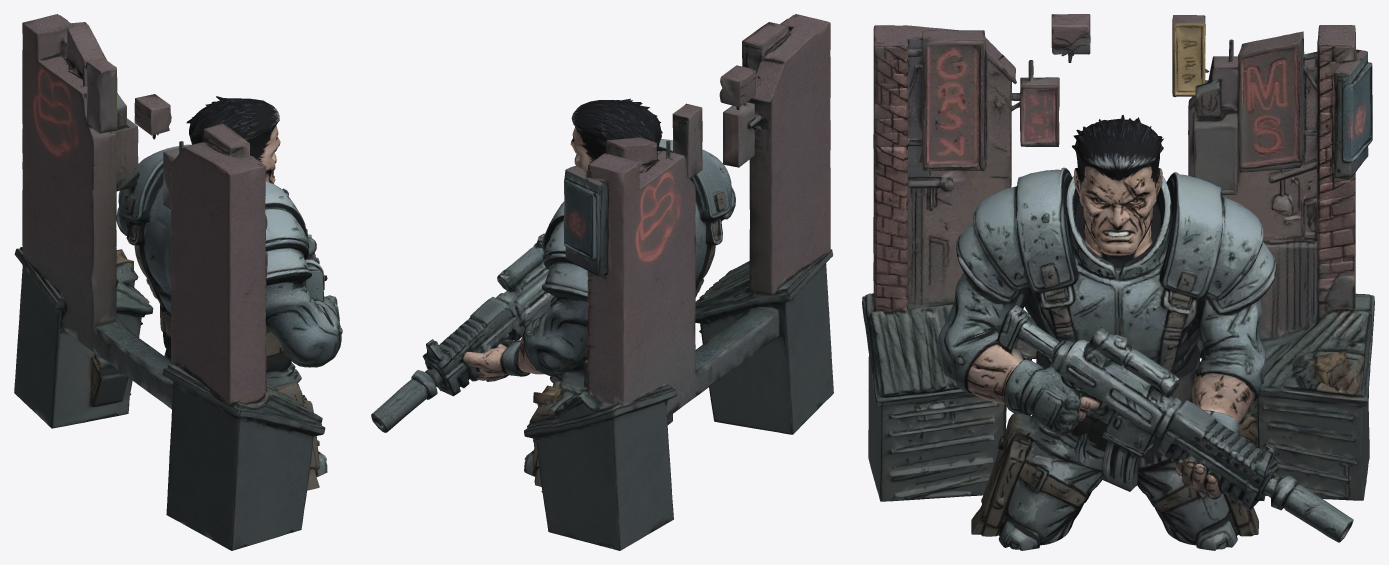
Rendered from grunt3dskin1.glb.
The picture shows the model from 3 angles, left to right: view 1: azimuth 30°, elevation 25°; view 2: azimuth 150°, elevation 25°; view 3: azimuth 270°, elevation 25°; orthographic projection. The views are drawn at different scales.
Parts seen in each view (by area): view 1: tripo_node_4bd8fd82-249d-45ce-9d0f-d256d03f753a; view 2: tripo_node_4bd8fd82-249d-45ce-9d0f-d256d03f753a; view 3: tripo_node_4bd8fd82-249d-45ce-9d0f-d256d03f753a.
Part boxes in pixels (x1,y1,x2,y2): tripo_node_4bd8fd82-249d-45ce-9d0f-d256d03f753a: (14, 14, 342, 550); tripo_node_4bd8fd82-249d-45ce-9d0f-d256d03f753a: (371, 14, 833, 550); tripo_node_4bd8fd82-249d-45ce-9d0f-d256d03f753a: (862, 14, 1374, 550).
Size of the model in its own units: 0.7122 by 0.9603 by 1.
Materials: 1 (1 with a texture image).
